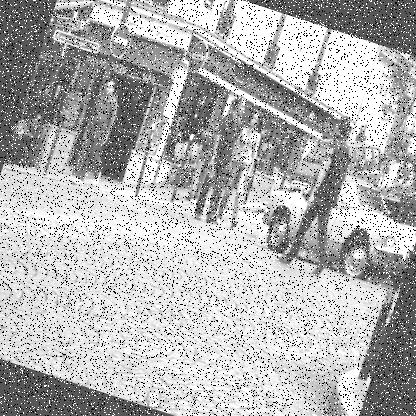Car: (253, 135, 415, 293), (376, 154, 412, 196)
